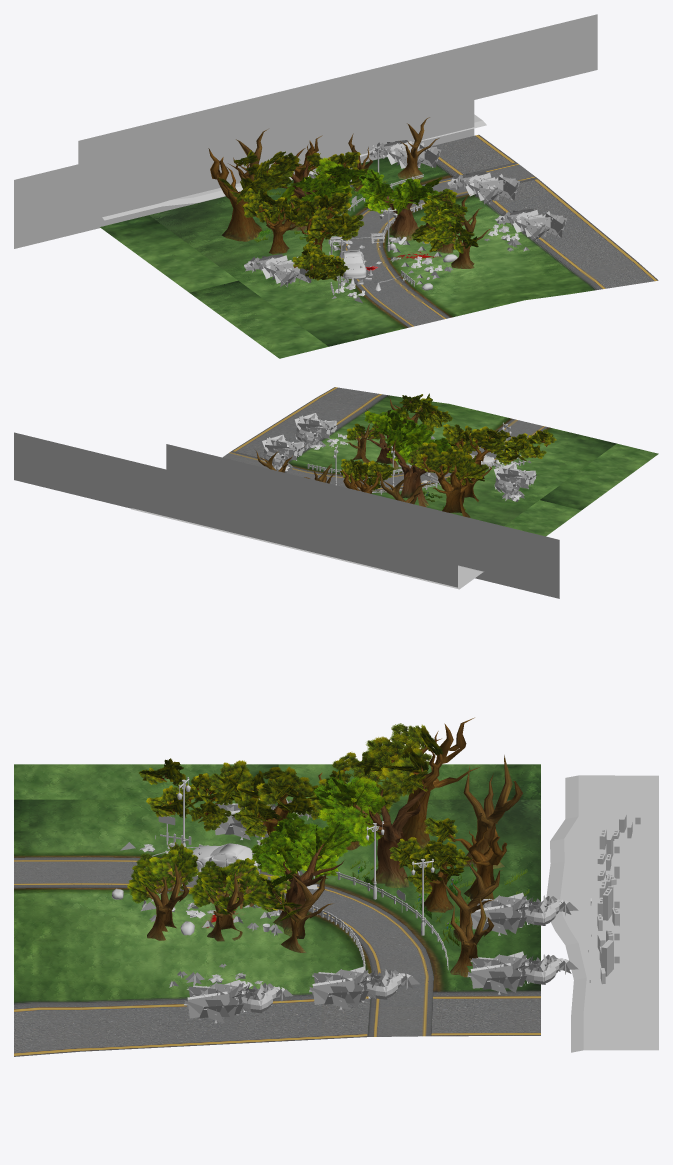
The model's file is JiaoWai_SenLin_01.FBX.
3 renders of one model, top to bottom at view 1: azimuth 30°, elevation 25°; view 2: azimuth 150°, elevation 25°; view 3: azimuth 270°, elevation 25°, orthographic. The views are drawn at different scales.
Visible parts, largest first — view 1: JiaoWaiSenLin_dimian_01, Plane001, Object010, JiaoWaiSenLin_shu_011, JiaoWaiSenLin_lu_01, JiaoWaiSenLin_shu_05, JiaoWaiSenLin_shu_016, JiaoWaiSenLin_shitou_06, Object001, Object004, Object021, Object005 (+2 smaller); view 2: Object010, JiaoWaiSenLin_dimian_01, Plane001, JiaoWaiSenLin_shu_011, JiaoWaiSenLin_shu_016, JiaoWaiSenLin_shu_05, JiaoWaiSenLin_lu_01, Object021, Object001, Object005, Object004, JiaoWaiSenLin_shitou_06 (+2 smaller); view 3: JiaoWaiSenLin_dimian_01, Object010, JiaoWaiSenLin_shu_011, JiaoWaiSenLin_shu_05, JiaoWaiSenLin_lu_01, JiaoWaiSenLin_shu_016, JiaoWaiSenLin_shitou_06, Object001, Object021, Object004, Object003, Object002 (+3 smaller).
Boxes of the visible parts, <box> form: JiaoWaiSenLin_dimian_01: <box>100,134,658,358</box>; Plane001: <box>14,68,474,248</box>; Object010: <box>78,14,597,220</box>; JiaoWaiSenLin_shu_011: <box>208,135,368,254</box>; JiaoWaiSenLin_lu_01: <box>342,162,537,327</box>; JiaoWaiSenLin_shu_05: <box>228,117,491,268</box>; JiaoWaiSenLin_shu_016: <box>277,157,442,230</box>; JiaoWaiSenLin_shitou_06: <box>328,145,457,294</box>; Object001: <box>484,208,567,251</box>; Object004: <box>447,171,519,204</box>; Object021: <box>292,241,349,281</box>; Object005: <box>244,254,312,286</box>; Object010: <box>14,432,483,589</box>; JiaoWaiSenLin_dimian_01: <box>232,387,658,536</box>; Plane001: <box>166,444,559,598</box>; JiaoWaiSenLin_shu_011: <box>340,424,511,517</box>; JiaoWaiSenLin_shu_016: <box>364,410,450,506</box>; JiaoWaiSenLin_shu_05: <box>255,393,441,504</box>; JiaoWaiSenLin_lu_01: <box>222,419,547,490</box>; Object021: <box>495,429,556,464</box>; Object001: <box>294,413,365,449</box>; Object005: <box>494,463,536,501</box>; Object004: <box>262,434,305,472</box>; JiaoWaiSenLin_shitou_06: <box>307,422,526,494</box>; JiaoWaiSenLin_dimian_01: <box>14,764,540,1056</box>; Object010: <box>546,775,658,1052</box>; JiaoWaiSenLin_shu_011: <box>209,717,506,912</box>; JiaoWaiSenLin_shu_05: <box>127,755,522,977</box>; JiaoWaiSenLin_lu_01: <box>14,857,433,1036</box>; JiaoWaiSenLin_shu_016: <box>251,768,425,887</box>; JiaoWaiSenLin_shitou_06: <box>111,777,448,970</box>; Object001: <box>169,963,292,1023</box>; Object021: <box>138,758,232,831</box>; Object004: <box>309,966,419,1009</box>; Object003: <box>467,951,578,994</box>; Object002: <box>470,892,578,935</box>.
Bounding box in the file's own units: 33743 × 5116 × 21044.
